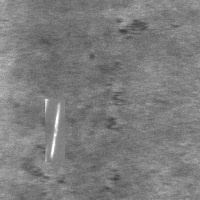rolled-in_scale: (88, 55, 128, 135), (17, 140, 66, 189), (113, 15, 157, 40)
scratches: (45, 99, 65, 162)
